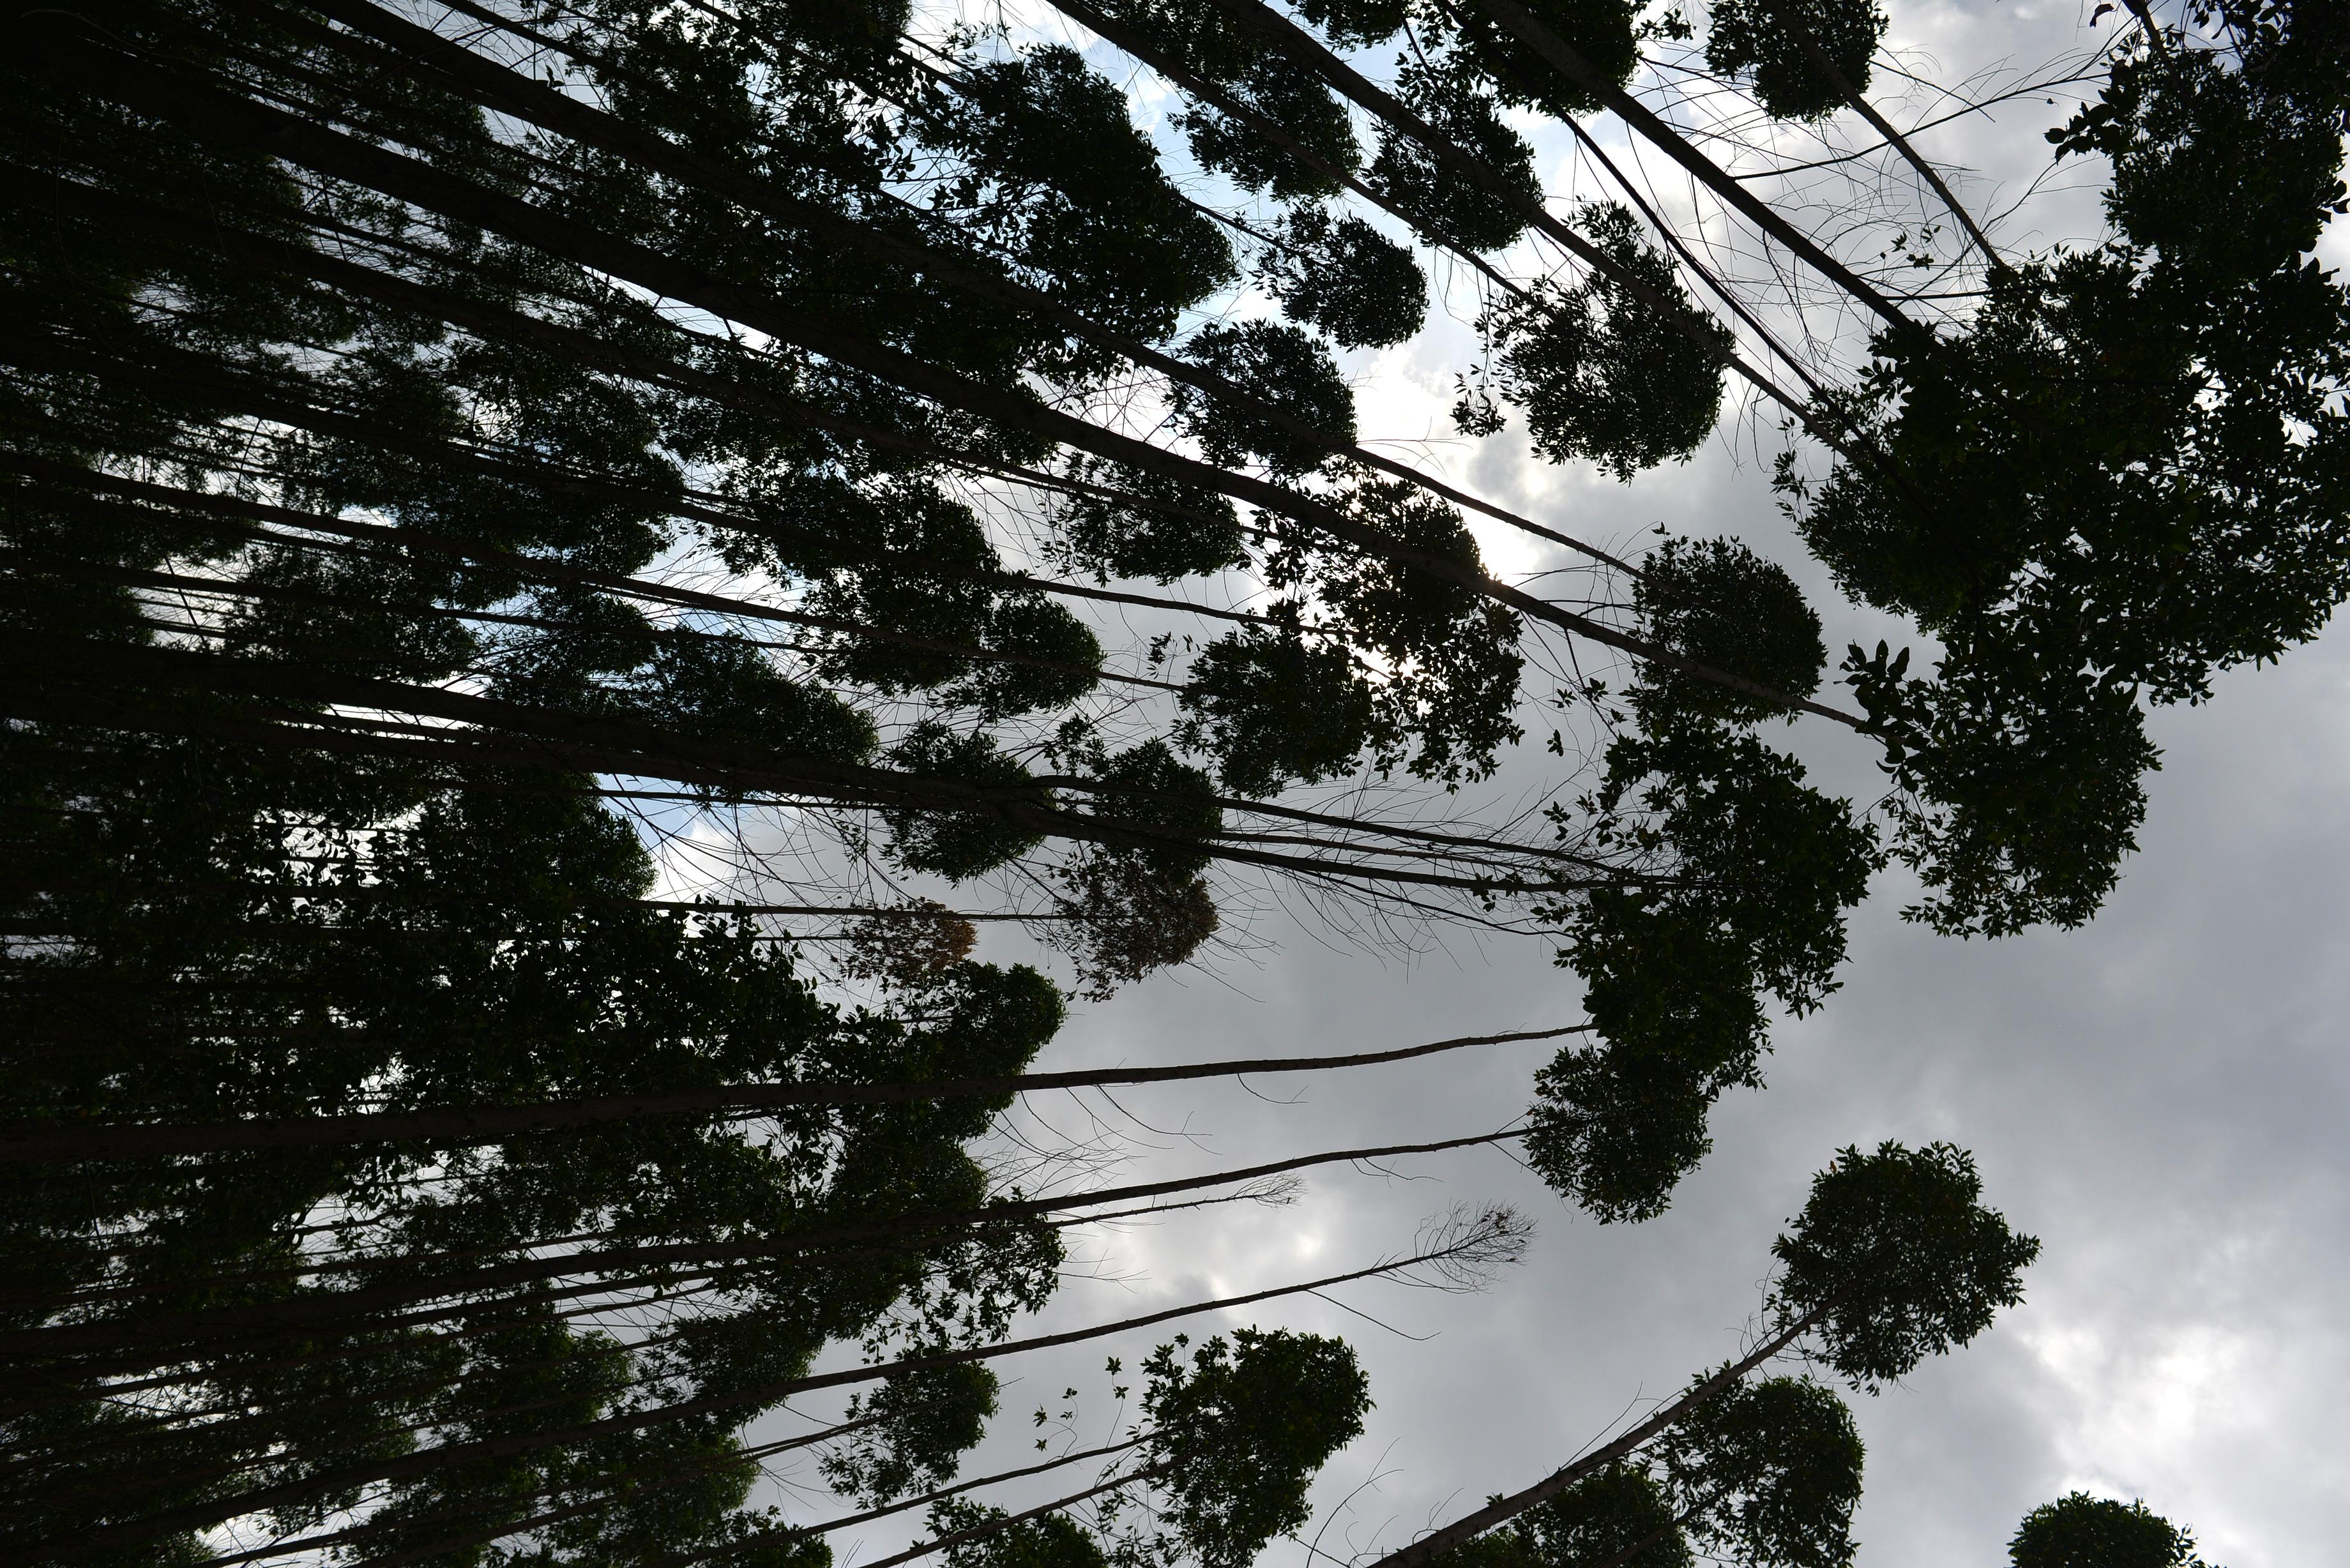Wither Tree Parts: (1055, 866, 1225, 1006), (1386, 1185, 1542, 1337), (828, 894, 997, 1015)
